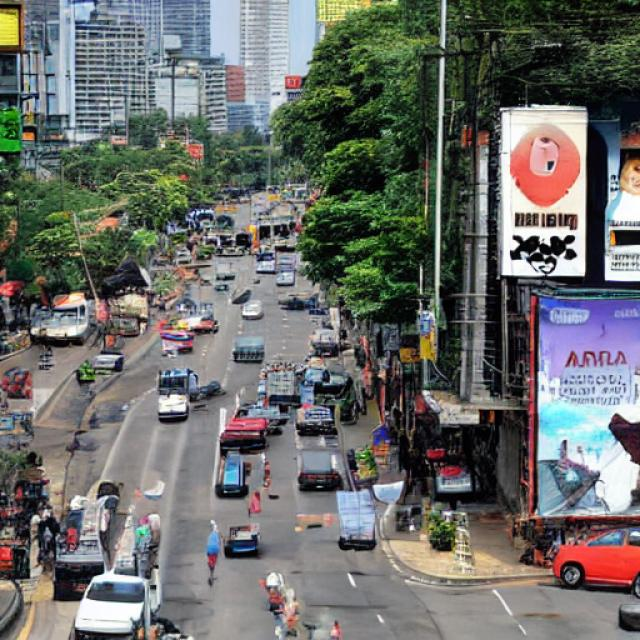Billboard: (527, 286, 640, 525), (499, 105, 592, 282), (608, 116, 640, 283)
